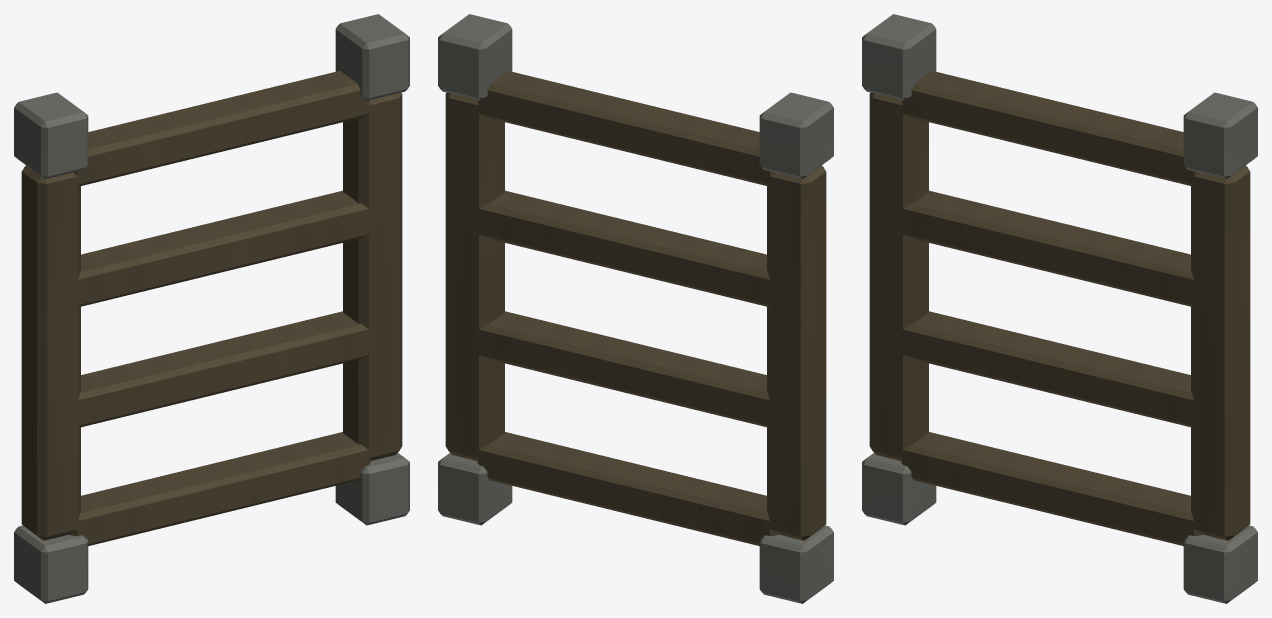
The model's file is WarrensC_WVC041_LoftLadder125Segment_Mars_SM.fbx.
The picture shows the model from 3 angles, left to right: view 1: azimuth 30°, elevation 25°; view 2: azimuth 150°, elevation 25°; view 3: azimuth 330°, elevation 25°; orthographic projection.
Parts seen in each view (by area): view 1: WarrensC_WVC041_LoftLadder125Segment_Mars_SM.001; view 2: WarrensC_WVC041_LoftLadder125Segment_Mars_SM.001; view 3: WarrensC_WVC041_LoftLadder125Segment_Mars_SM.001.
Part boxes in pixels (left/top/right/bottom): WarrensC_WVC041_LoftLadder125Segment_Mars_SM.001: left=14, top=14, right=409, bottom=603; WarrensC_WVC041_LoftLadder125Segment_Mars_SM.001: left=438, top=14, right=833, bottom=603; WarrensC_WVC041_LoftLadder125Segment_Mars_SM.001: left=862, top=14, right=1257, bottom=603.
Size of the model in its own units: 100 by 15 by 125.
